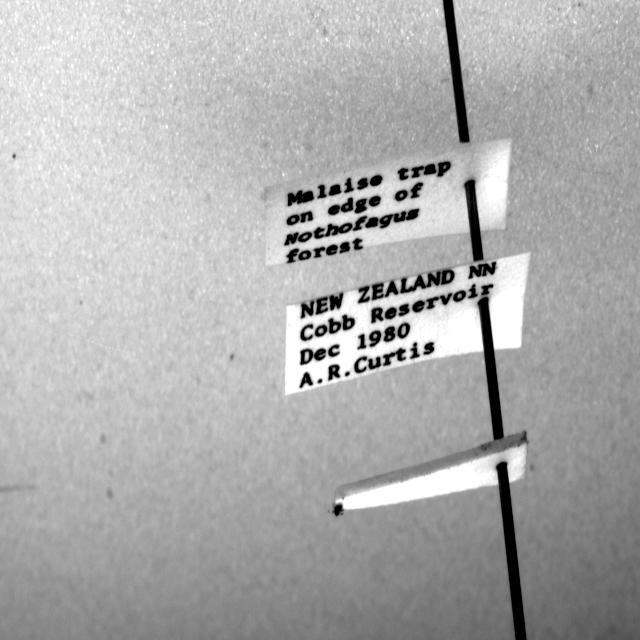typed_label: (285, 253, 530, 396), (265, 139, 511, 266)
